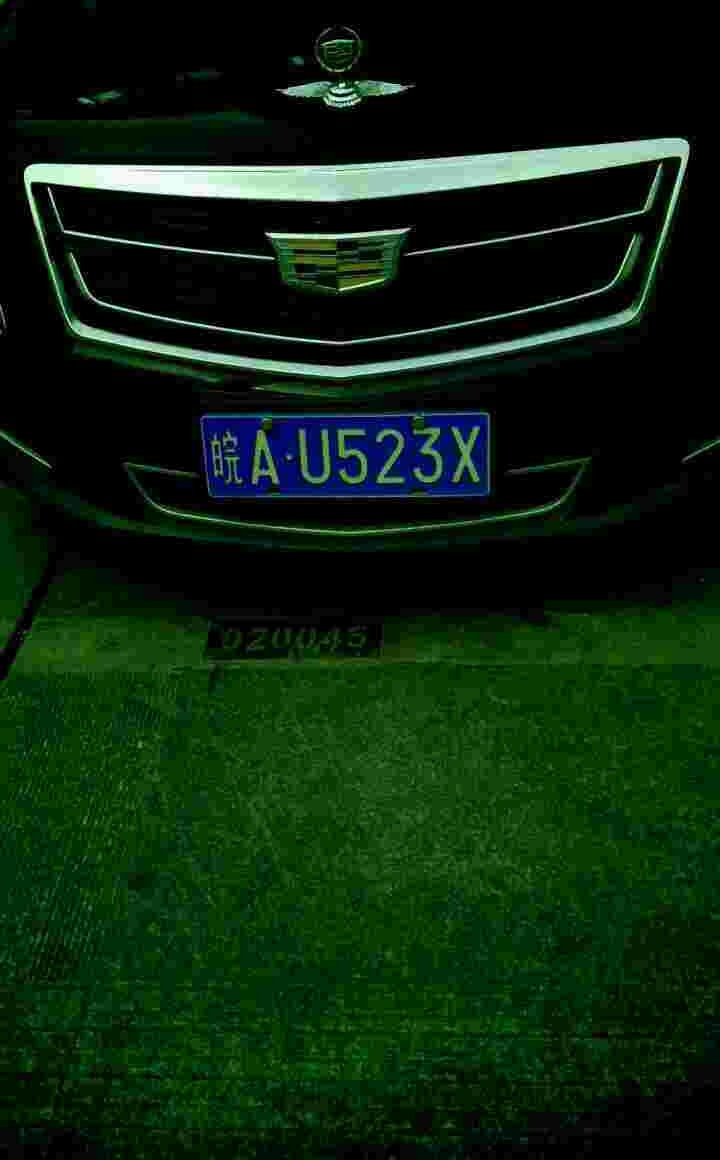license_plate: (205, 418, 487, 502)
